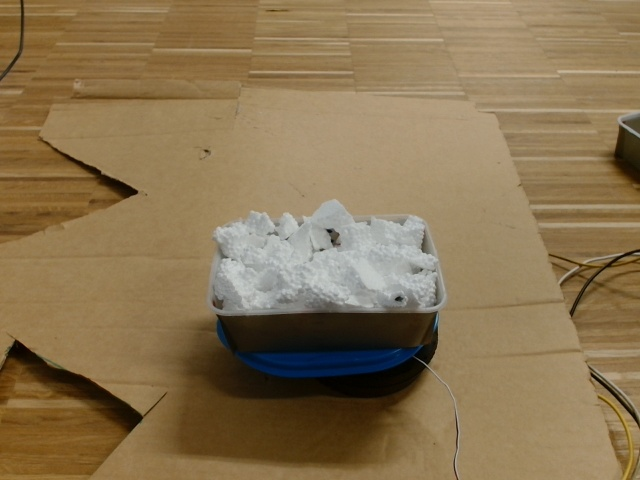Small_full: (206, 197, 449, 324)
